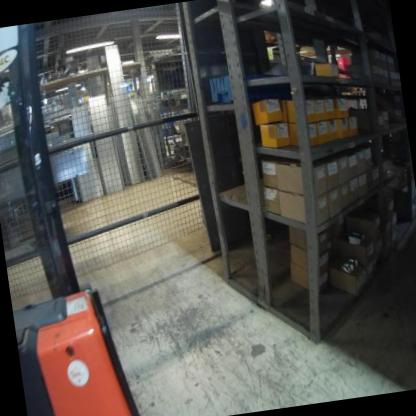pallet_truck: (0, 16, 150, 416)
small_load_carrier: (208, 74, 232, 105)
